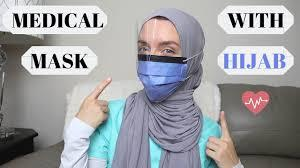Wearing Mask: (126, 2, 212, 109)
